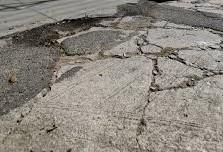alligator-crack: (75, 12, 223, 90)
crack: (136, 57, 160, 152)
